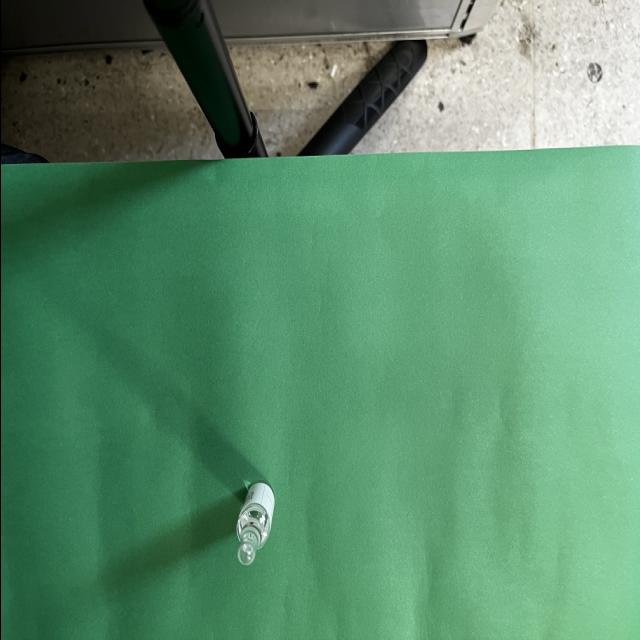Ampoules: (235, 481, 274, 566)
